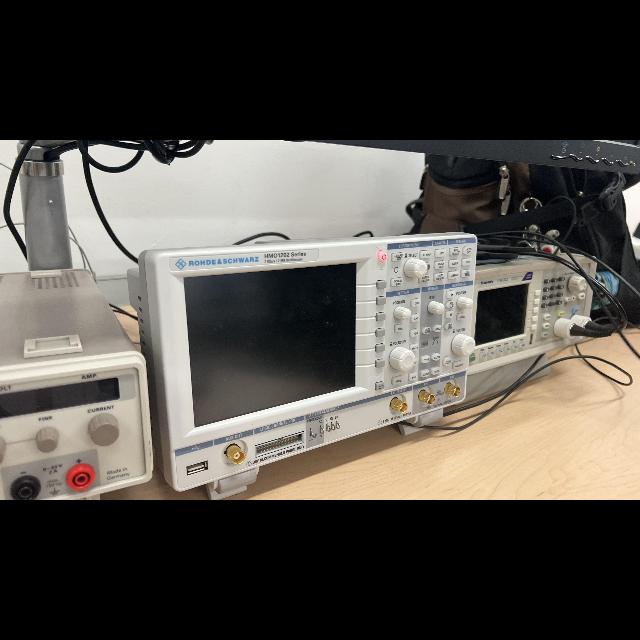Digital-Oscilloscope: (128, 232, 476, 499)
